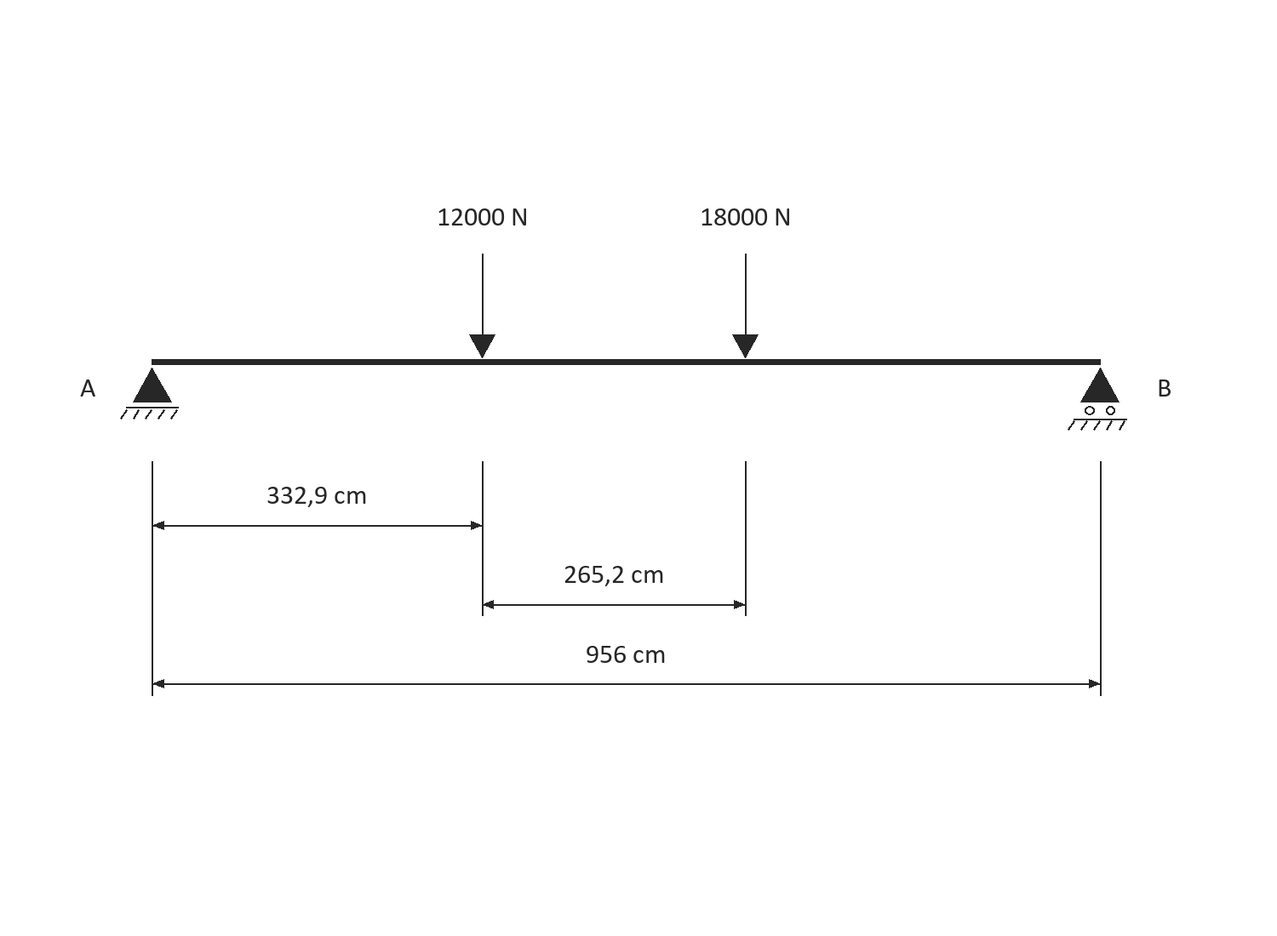pin_support: (120, 368, 179, 419)
point_load: (732, 254, 759, 358), (469, 254, 495, 358)
roller_support: (1068, 368, 1127, 431)
